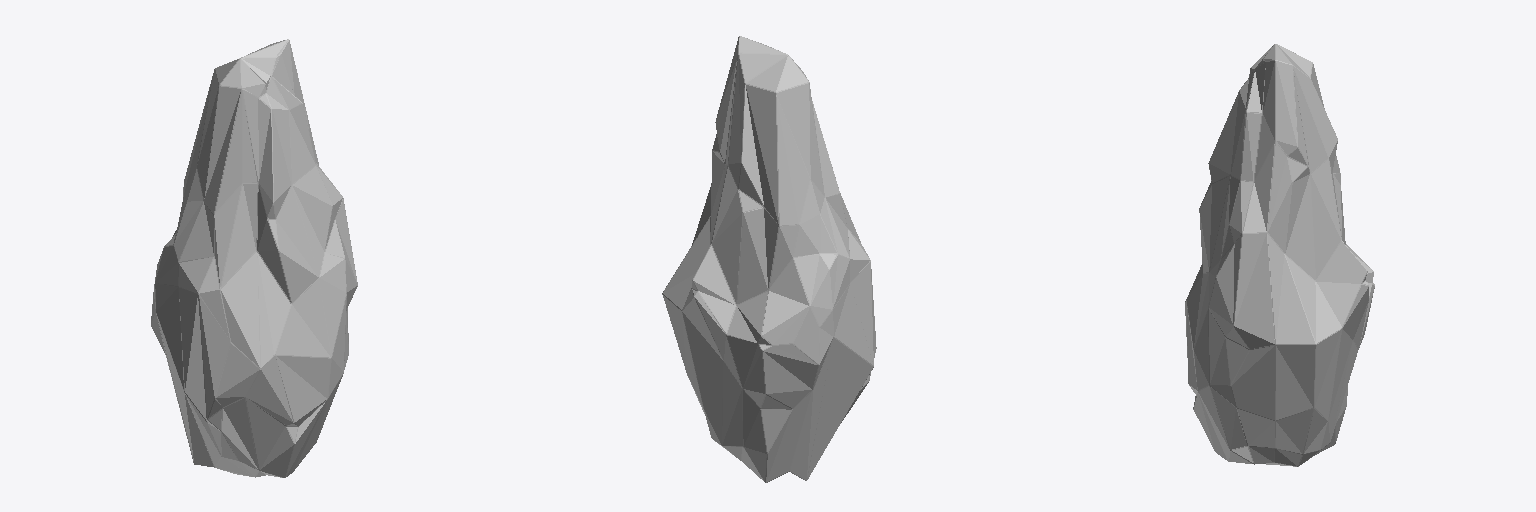
The model's file is redCrystal.obj.
The picture shows the model from 3 angles: view 1: azimuth 30°, elevation 25°; view 2: azimuth 150°, elevation 25°; view 3: azimuth 270°, elevation 25°; orthographic projection.
Parts seen in each view (by area): view 1: Red_Crystal_M_Red_0.001; view 2: Red_Crystal_M_Red_0.001; view 3: Red_Crystal_M_Red_0.001.
Part boxes in pixels (bbox=[...]): Red_Crystal_M_Red_0.001: bbox=[151, 39, 357, 477]; Red_Crystal_M_Red_0.001: bbox=[662, 36, 876, 482]; Red_Crystal_M_Red_0.001: bbox=[1185, 44, 1374, 466].
Bounding box in the file's own units: 2.9 × 6.59 × 2.69.